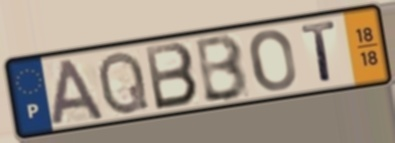A: (49, 57, 108, 127)
B: (142, 40, 201, 113), (194, 31, 251, 105)
O: (247, 28, 299, 94)
Q: (96, 48, 152, 117)
T: (299, 19, 339, 86)
